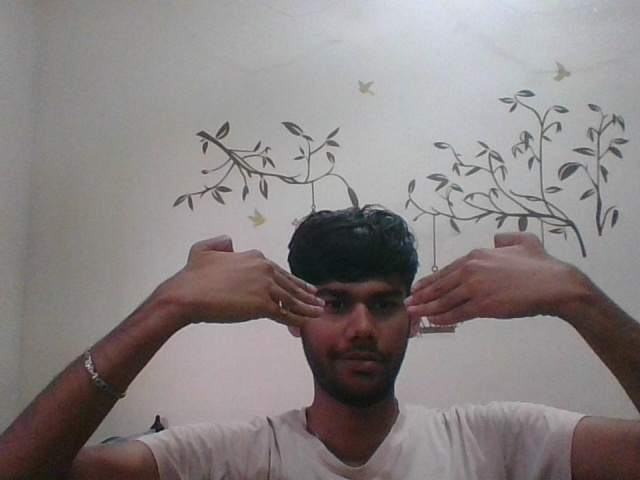I am Utkarsh: (180, 185, 546, 361)
